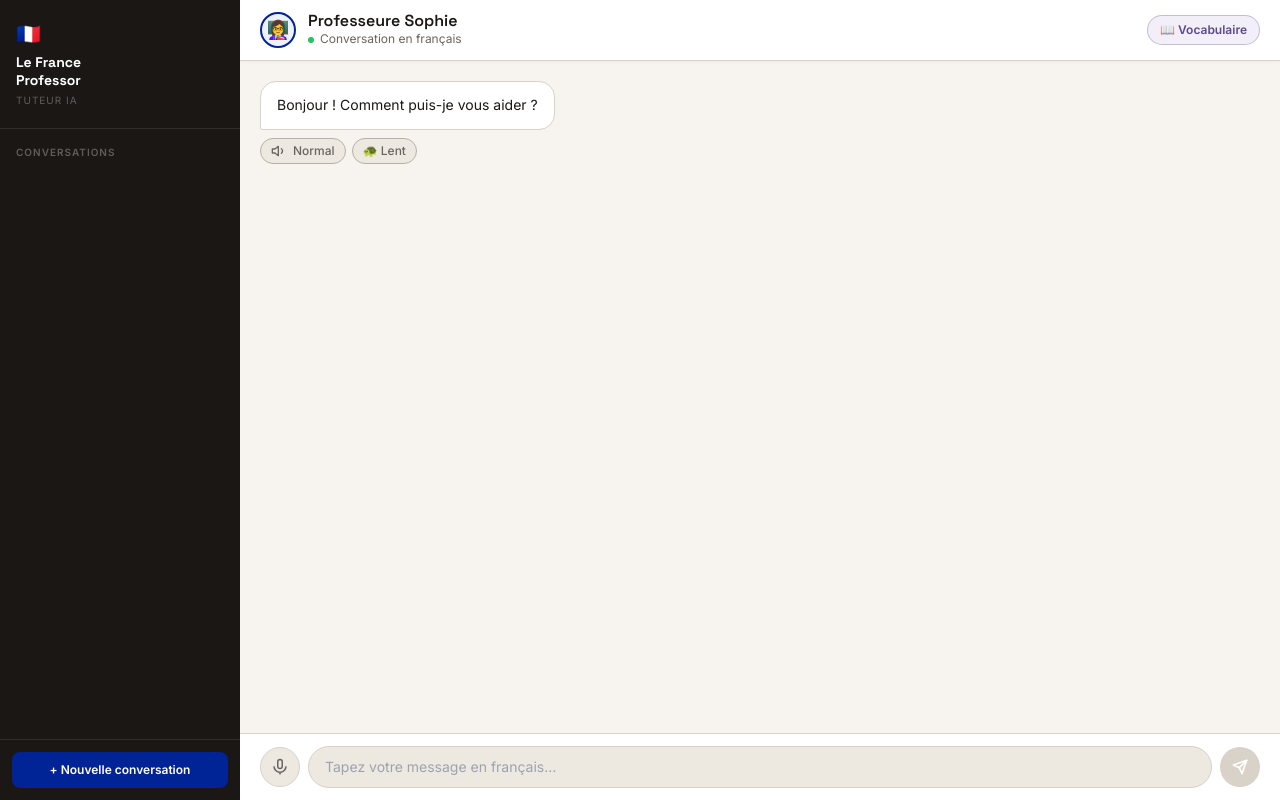
it: ChatClient › /vocabulary slash command › does not show user bubble — only the vocabulary response appears
In the field: (760,767) [308,746,1212,788], type "/vocabulary passée"
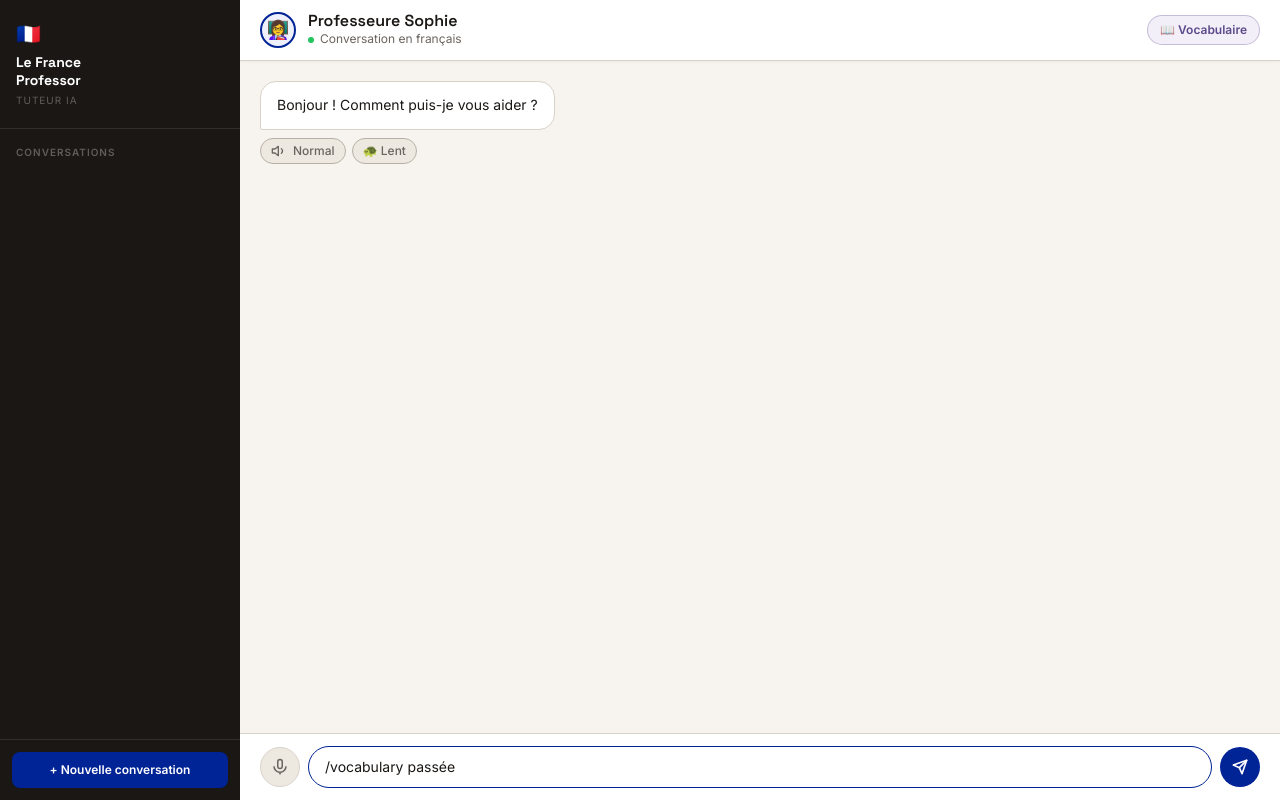
Click the button named "Envoyer": (1240,767) [1220,747,1260,787]
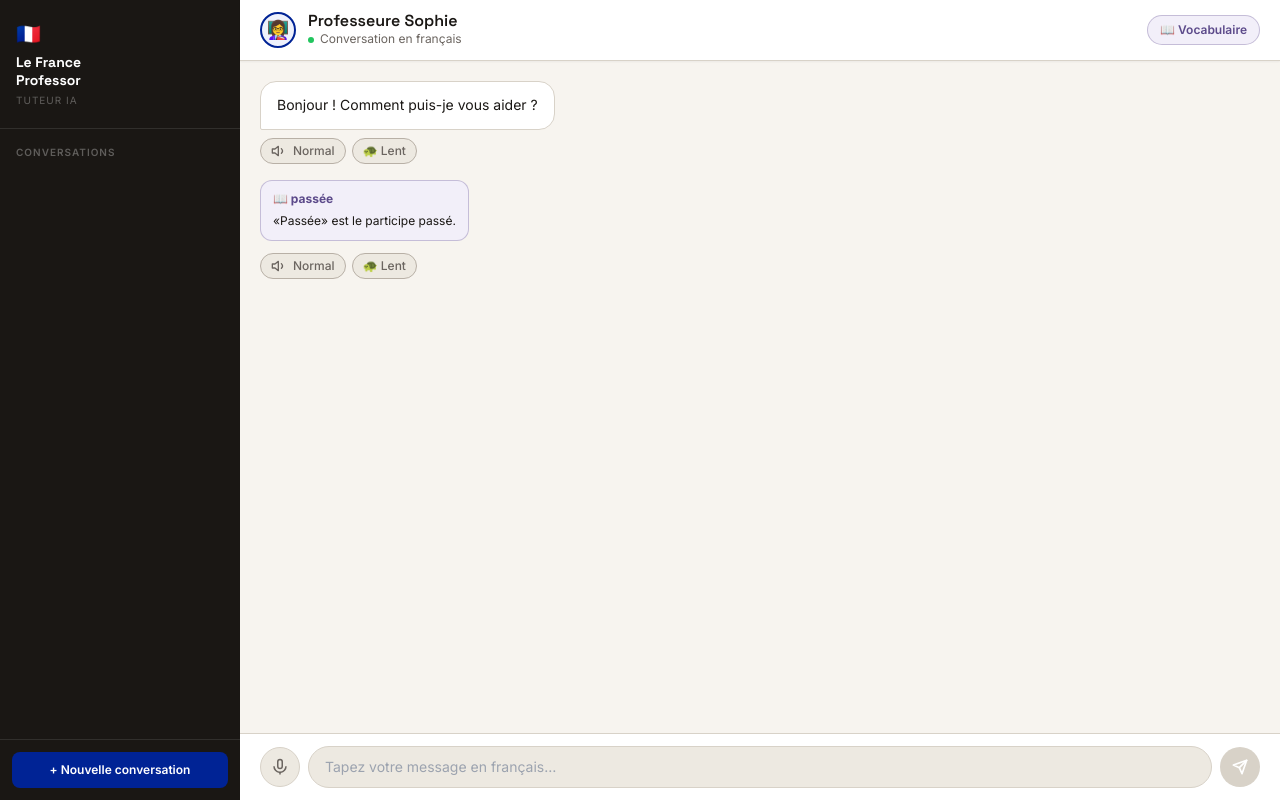
Expected: the text "/vocabulary passée" is not shown
Now the text "📖 passée" is shown, box [273,191,333,206]
Now the text "«Passée» est le participe passé." is shown, box [273,211,456,230]
